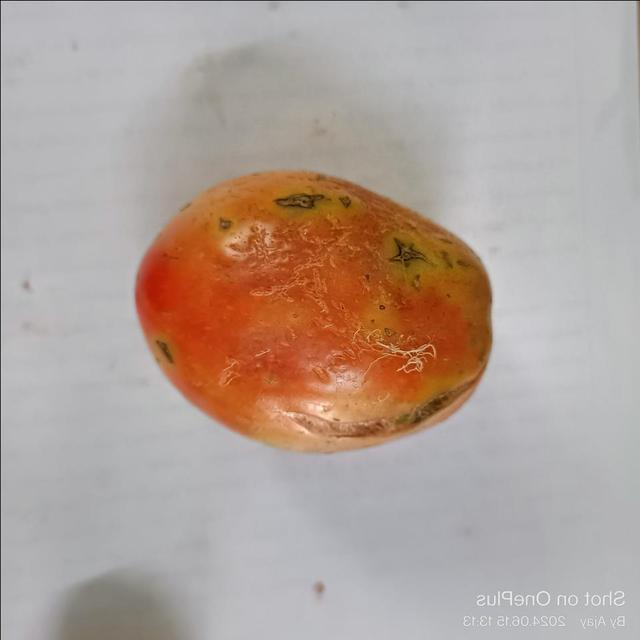Bacterial Spot Fruit: (18, 20, 270, 232)
